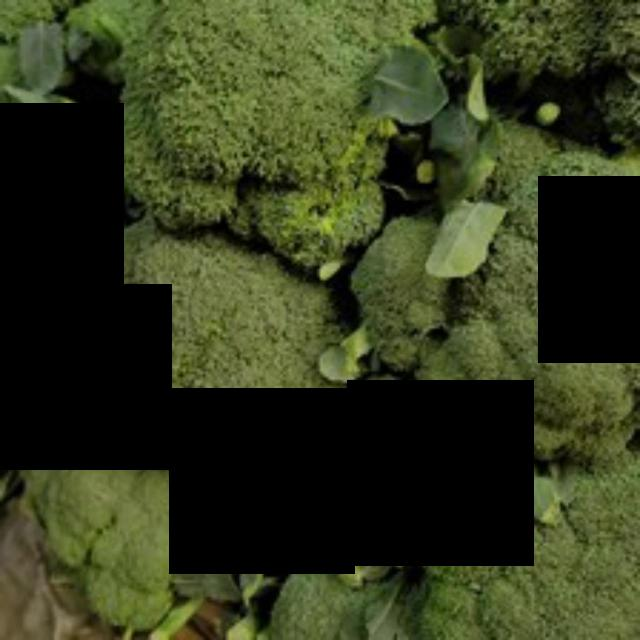broccoli: (70, 183, 398, 515)
